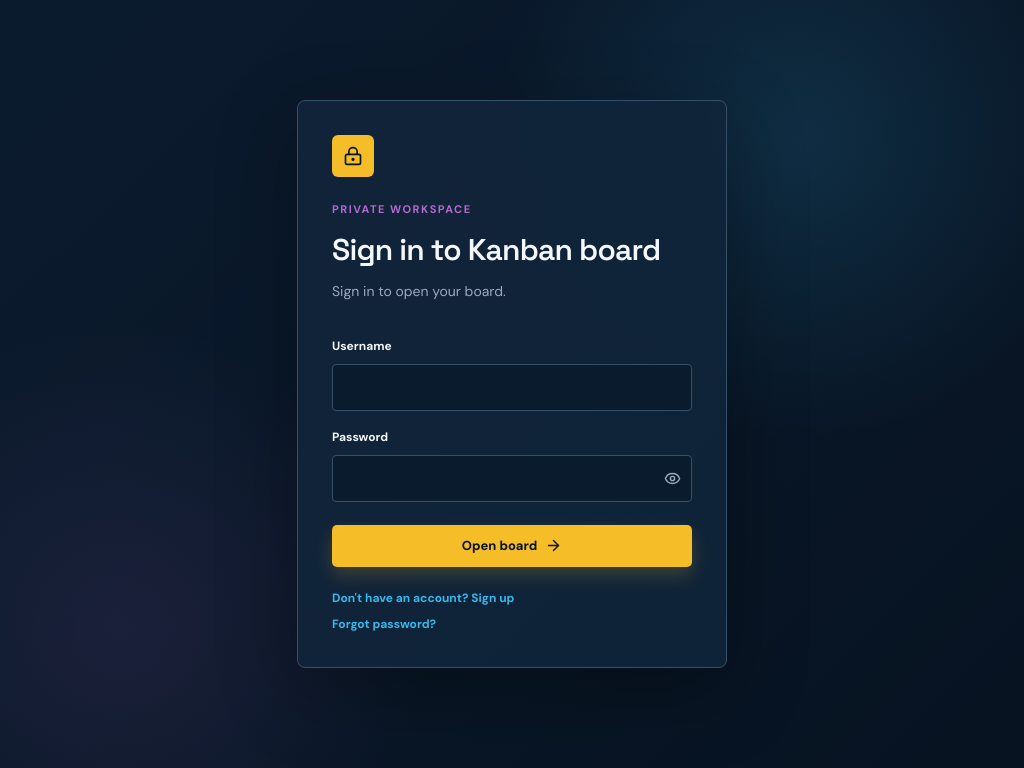
Test: Home session lifecycle › shows a load error when the board API is unavailable
Type "user" into the field labelled "Username". click: (512, 387)
box: [332,364,692,411]
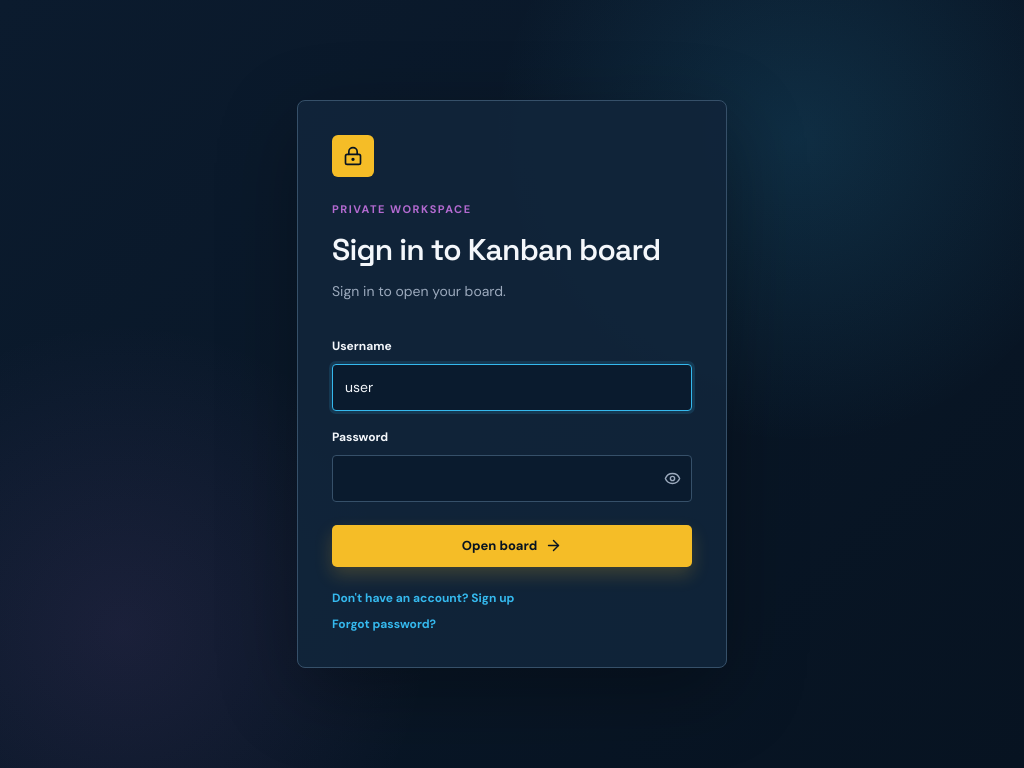
Type "password" into the password field labelled "Password". click: (512, 478)
box: [332,455,692,502]
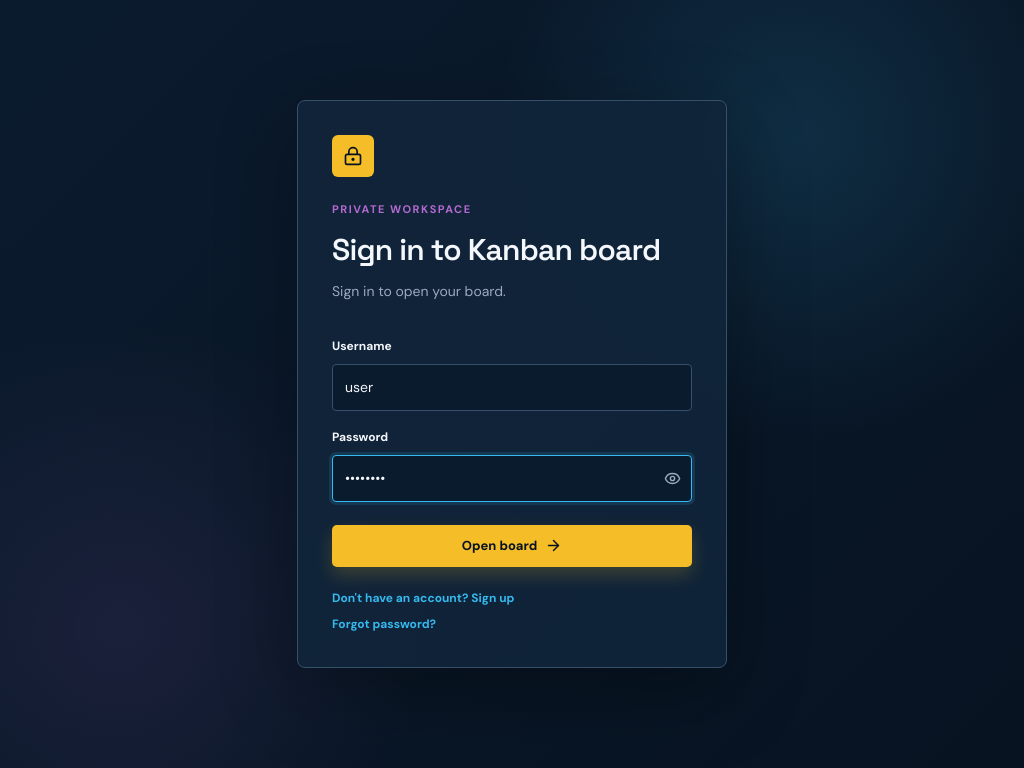
Click the button "Open board". click: (512, 546)
box: [332,525,692,567]
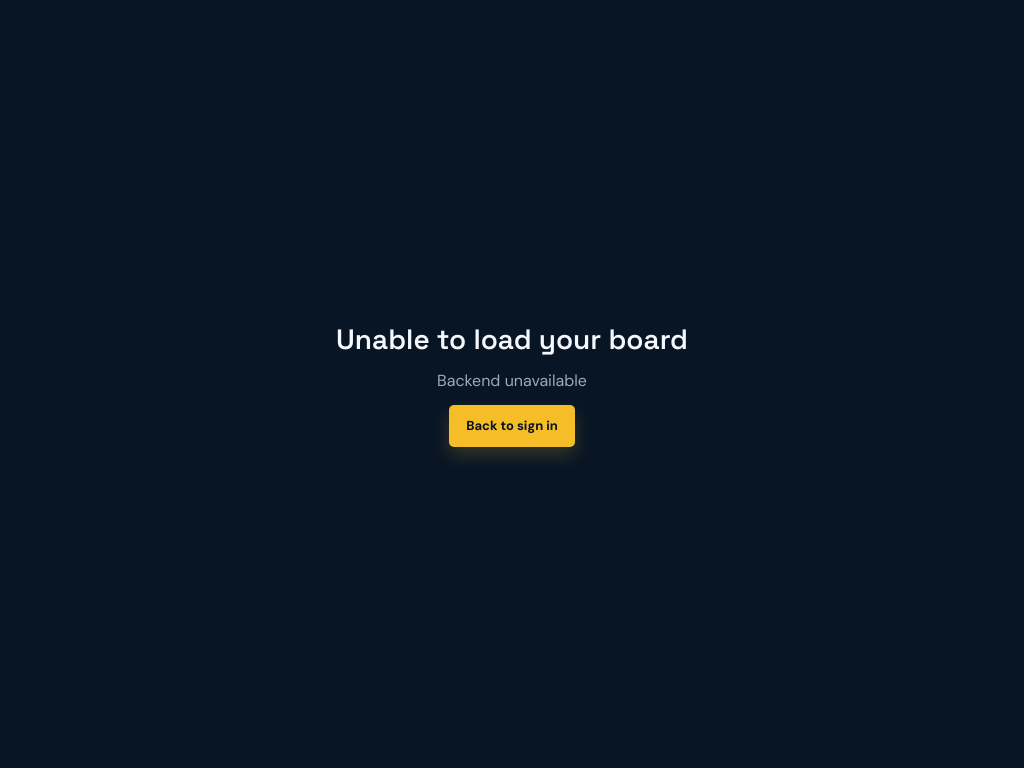
Check: the heading "Unable to load your board" is shown, box [336,321,688,357]
Check: the text "Backend unavailable" is shown, box [437,369,587,393]
